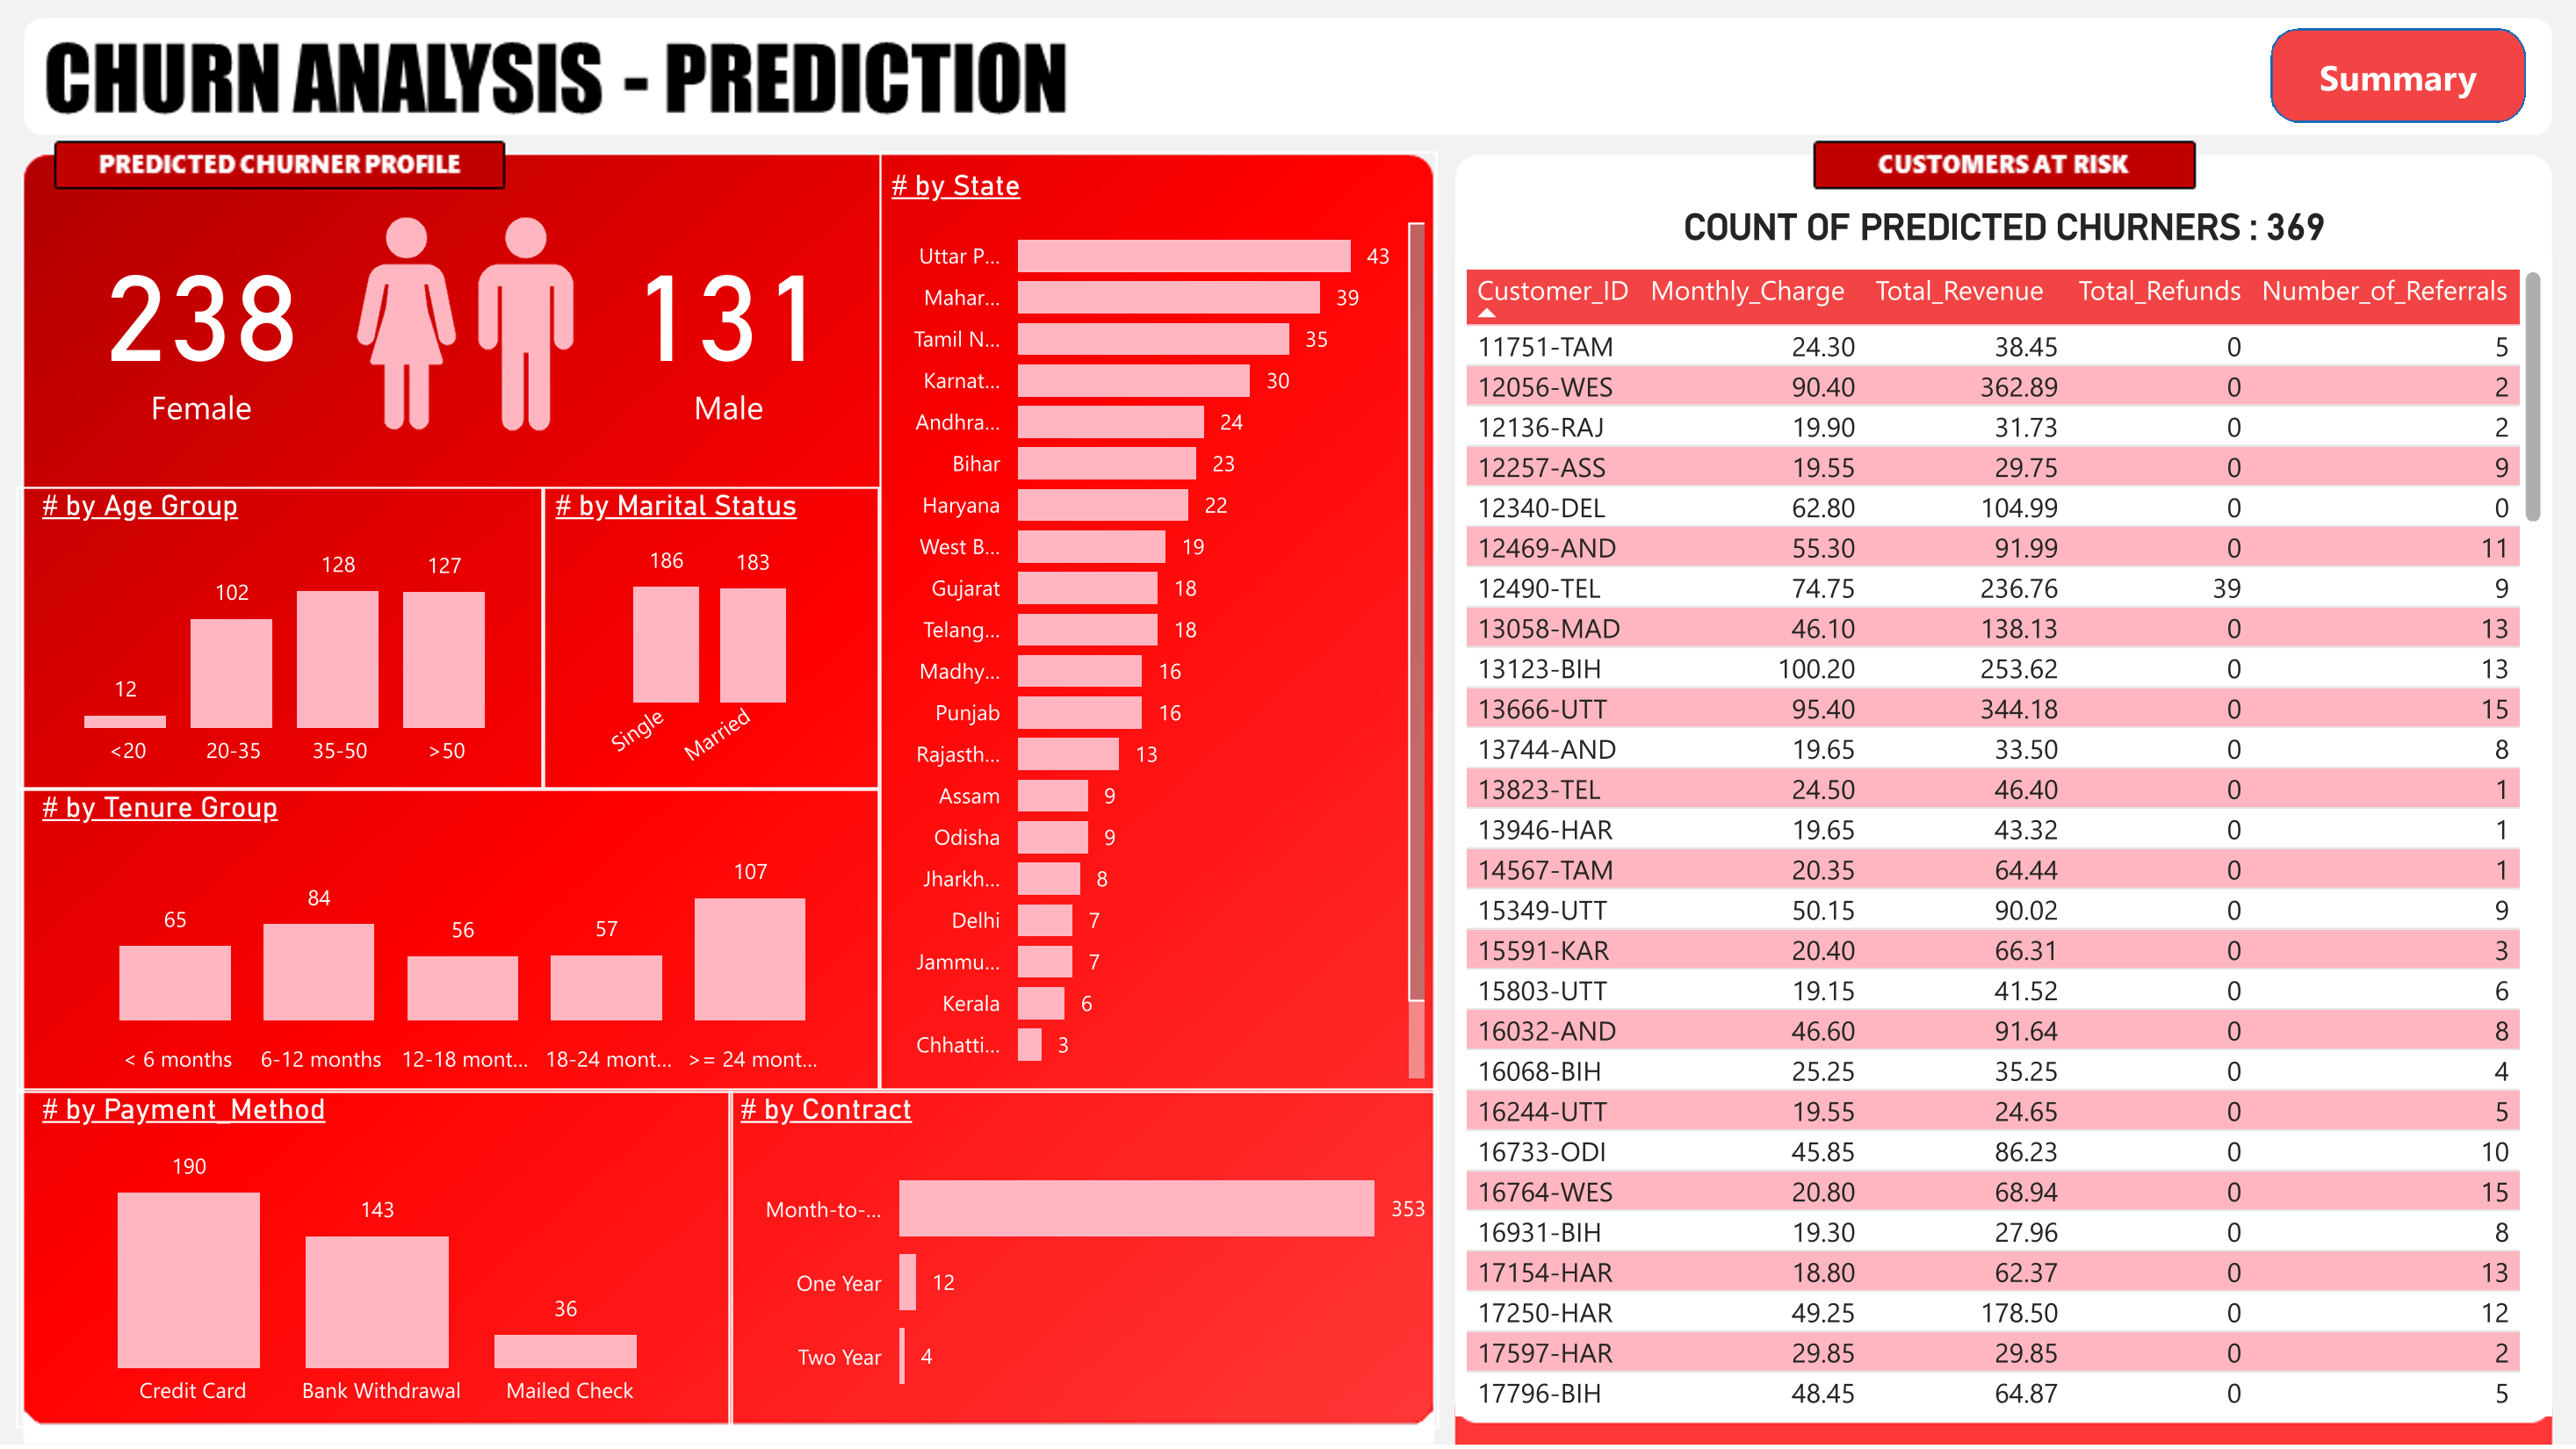

Layout of this report page (visuals, bound fields, positions):
{"tool":"powerbi","page":{"name":"Churn Prediction","canvas":[1280,720],"ordinal":2},"visuals":[{"type":"tableEx","fields":{"Values":["Predictions.Customer_ID","Predictions.Monthly_Charge","Predictions.Total_Revenue","Predictions.Total_Refunds","Predictions.Number_of_Referrals"]},"box":[722.7,129.4,545.7,574.8],"z":0},{"type":"card","fields":{"Values":["tbl_Measures.Title Predicted Churner"]},"box":[828.7,99.2,334.6,28.2],"z":1000},{"type":"card","fields":{"Values":["tbl_Measures.Count Predicted Churner"]},"box":[25.3,85.6,149.8,149.8],"z":2000},{"type":"card","fields":{"Values":["tbl_Measures.Count Predicted Churner"]},"box":[286.9,85.6,149.8,149.8],"z":3000},{"type":"clusteredColumnChart","fields":{"Category":["mapping_AgeGrp.Age Group"],"Y":["CountNonNull(Predictions.Customer_ID)"]},"box":[7.8,242.2,262.6,149.8],"z":4000},{"type":"clusteredColumnChart","fields":{"Y":["CountNonNull(Predictions.Customer_ID)"],"Category":["Predictions.Marital Status"]},"box":[270.4,242.2,166.3,149.8],"z":5000},{"type":"clusteredColumnChart","fields":{"Y":["CountNonNull(Predictions.Customer_ID)"],"Category":["mapping_TenureGrp.Tenure Group"]},"box":[7.8,392,428.9,149.8],"z":6000},{"type":"clusteredColumnChart","fields":{"Y":["CountNonNull(Predictions.Customer_ID)"],"Category":["Predictions.Payment_Method"]},"box":[8,542,356,168],"z":7000},{"type":"clusteredBarChart","fields":{"Category":["Predictions.Contract"],"Y":["CountNonNull(Predictions.Customer_ID)"]},"box":[361.8,541.8,353,168],"z":8000},{"type":"clusteredBarChart","fields":{"Category":["Predictions.State"],"Y":["CountNonNull(Predictions.Customer_ID)"]},"box":[436.7,74.9,277.2,466.9],"z":9000},{"type":"image","box":[158.5,85.6,144.9,148.8],"z":10000},{"type":"shape","box":[1128.3,13.6,126.4,47.7],"z":11000}]}

Visuals, with their boxes in screenshot pixels (x1, y1, x2, y2), scaled from the page's 1280x720 canvas onto the 2576x1449 screenshot:
tableEx - Predictions.Customer_ID x Predictions.Monthly_Charge: <region>1454, 261, 2552, 1417</region>
card - tbl_Measures.Title Predicted Churner: <region>1668, 199, 2341, 256</region>
card - tbl_Measures.Count Predicted Churner: <region>51, 172, 352, 473</region>
card - tbl_Measures.Count Predicted Churner: <region>577, 172, 879, 473</region>
clusteredColumnChart - mapping_AgeGrp.Age Group x CountNonNull(Predictions.Customer_ID): <region>16, 487, 545, 789</region>
clusteredColumnChart - CountNonNull(Predictions.Customer_ID) x Predictions.Marital Status: <region>545, 487, 879, 789</region>
clusteredColumnChart - CountNonNull(Predictions.Customer_ID) x mapping_TenureGrp.Tenure Group: <region>16, 789, 879, 1091</region>
clusteredColumnChart - CountNonNull(Predictions.Customer_ID) x Predictions.Payment_Method: <region>16, 1091, 732, 1429</region>
clusteredBarChart - Predictions.Contract x CountNonNull(Predictions.Customer_ID): <region>728, 1091, 1439, 1429</region>
clusteredBarChart - Predictions.State x CountNonNull(Predictions.Customer_ID): <region>879, 151, 1437, 1091</region>
image: <region>319, 172, 610, 472</region>
shape: <region>2270, 27, 2525, 123</region>
